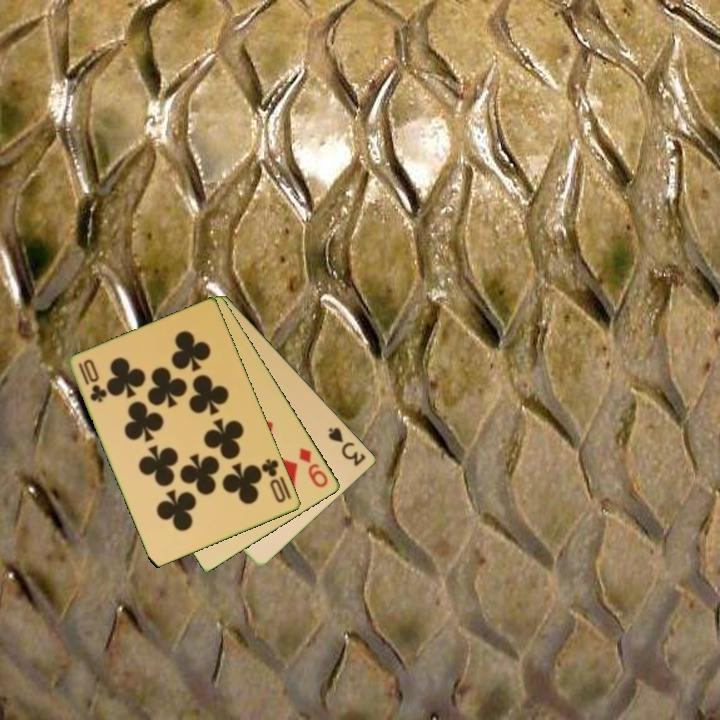10c: (75, 355, 110, 406), (258, 455, 289, 506)
3s: (325, 423, 369, 469)
9d: (296, 444, 331, 491)
